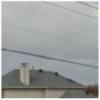chimneys: (19, 62, 32, 86)
